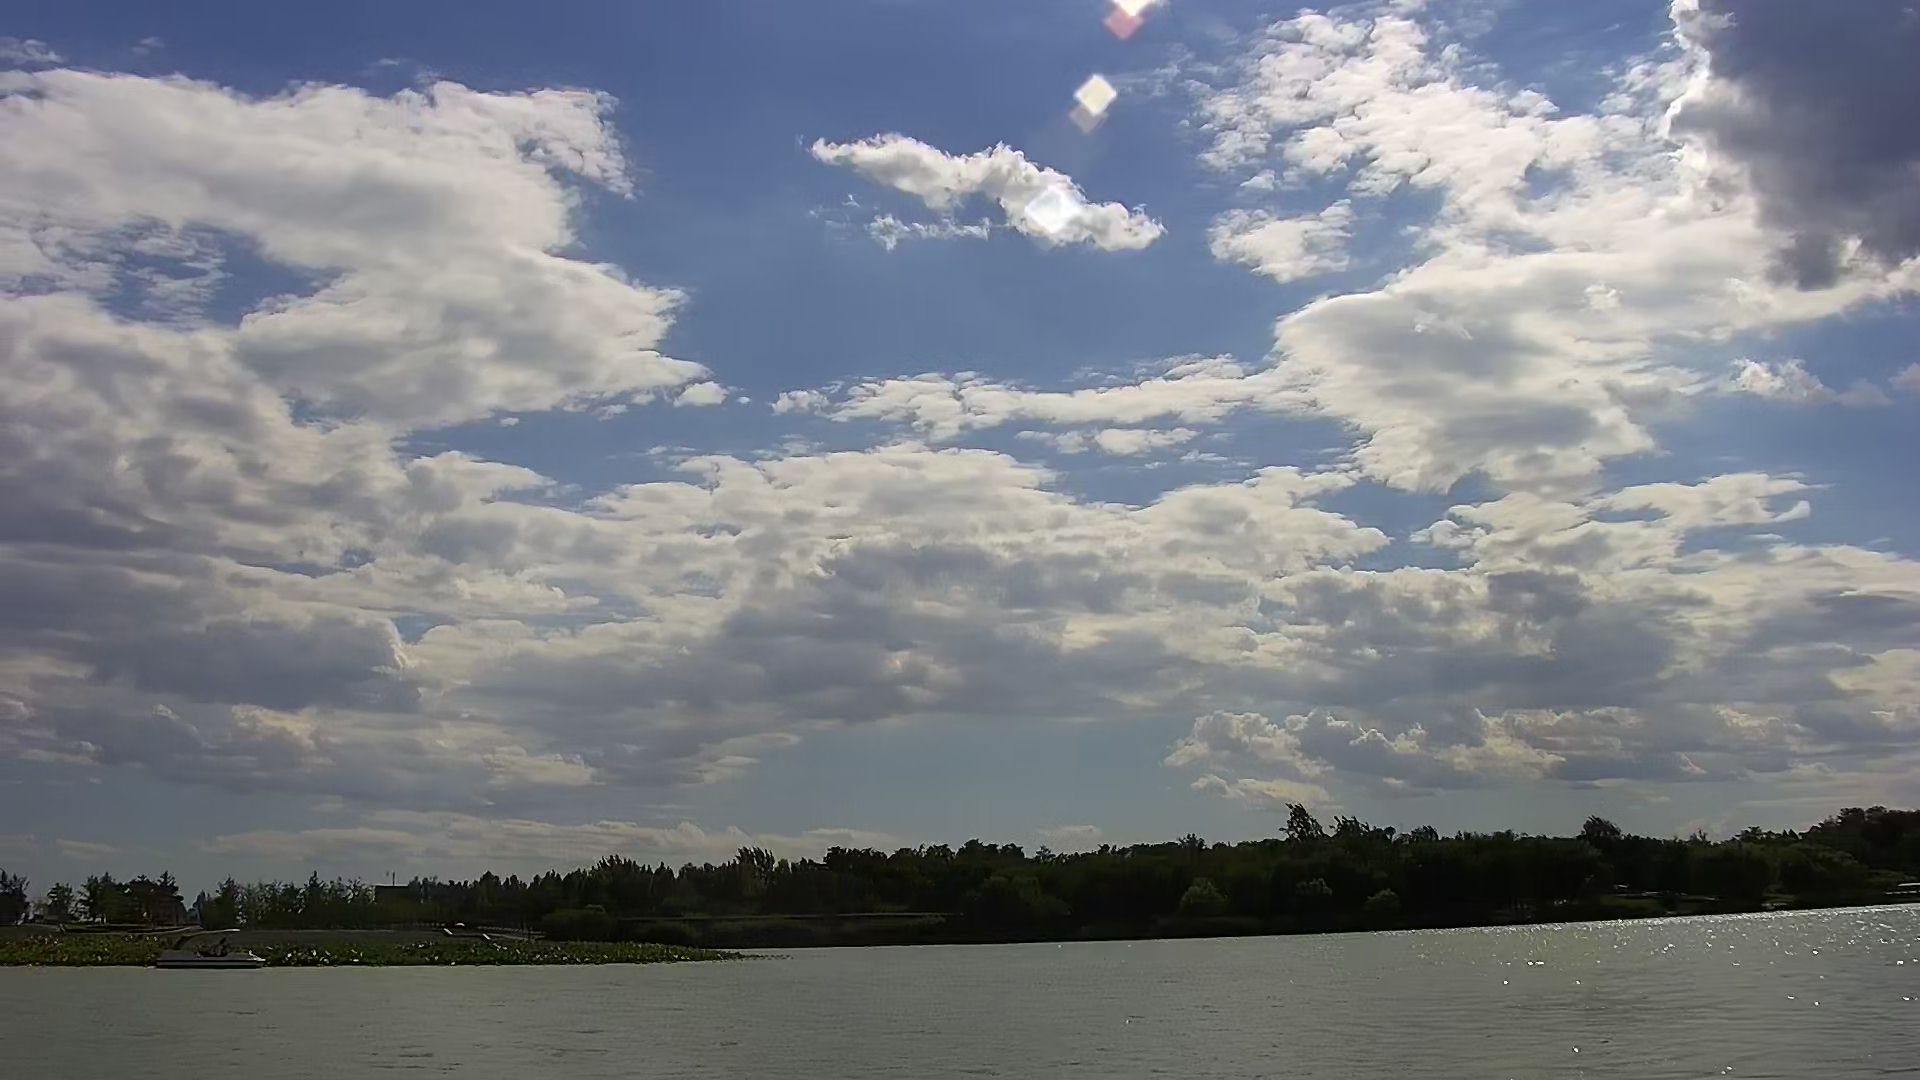boat: (156, 928, 272, 975)
